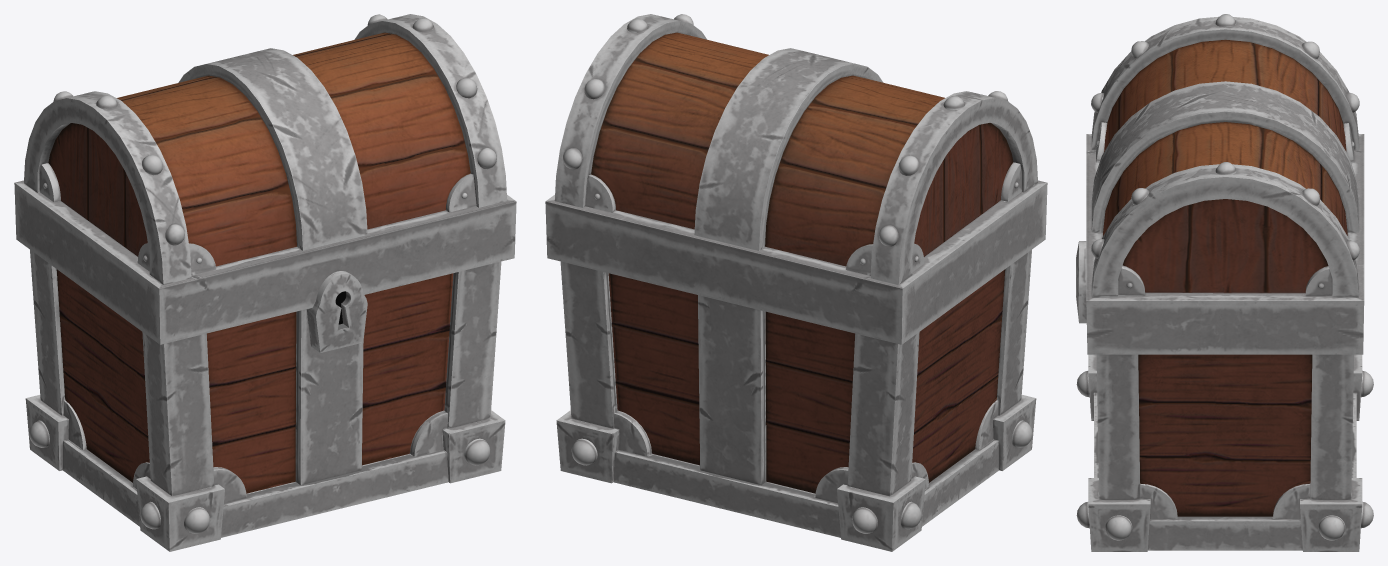
The model's file is damaged_chest.glb.
3 views of the same model, side by side, from view 1: azimuth 30°, elevation 25°; view 2: azimuth 150°, elevation 25°; view 3: azimuth 270°, elevation 25° (orthographic). The views are drawn at different scales.
Visible parts, largest first — view 1: base_low.002_3, tampa_low.003_2; view 2: base_low.002_3, tampa_low.003_2; view 3: base_low.002_3, tampa_low.003_2.
Boxes of the visible parts, box(x1,y1,x2,y2) form: base_low.002_3: box(14, 180, 516, 551); tampa_low.003_2: box(24, 14, 507, 284); base_low.002_3: box(545, 180, 1047, 551); tampa_low.003_2: box(554, 14, 1037, 284); base_low.002_3: box(1076, 134, 1373, 551); tampa_low.003_2: box(1091, 14, 1359, 297).
Bounding box in the file's own units: 1.39 × 1.5 × 1.05.
1 material, 1 textured.
